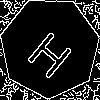H: (24, 22, 81, 81)
